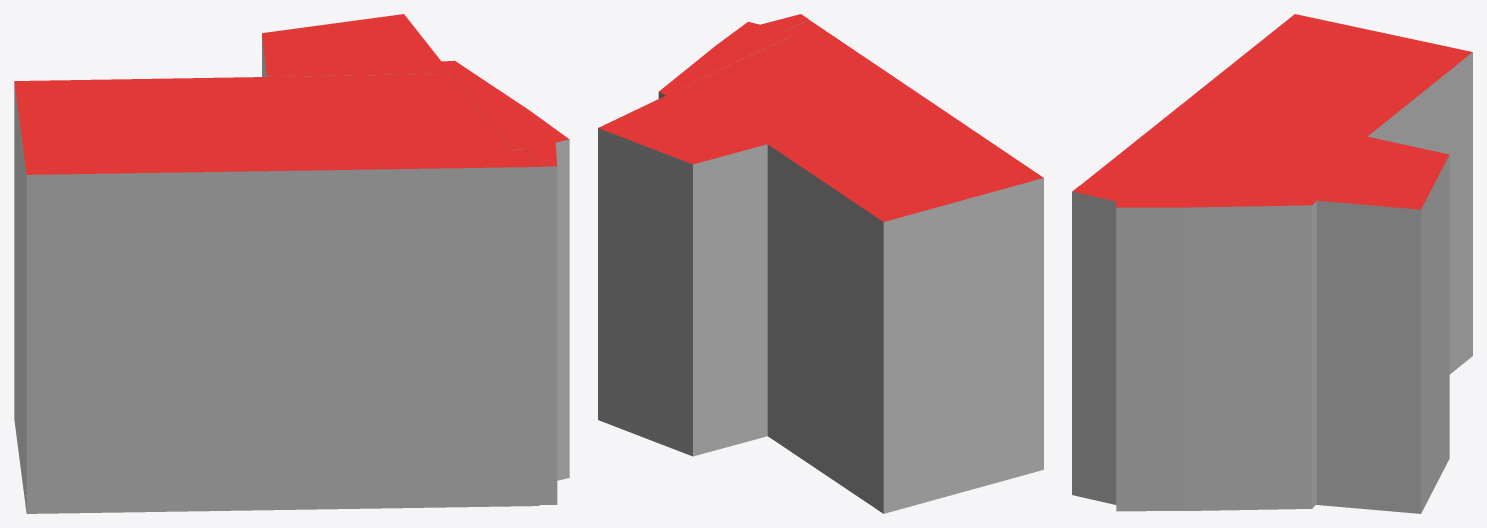
Rendered from DEBE3D04YY500005Ha.dae.
3 views of the same model, side by side, from view 1: azimuth 30°, elevation 25°; view 2: azimuth 150°, elevation 25°; view 3: azimuth 270°, elevation 25° (orthographic). The views are drawn at different scales.
Bounding box in the file's own units: 25.93 × 22.41 × 18.78.
